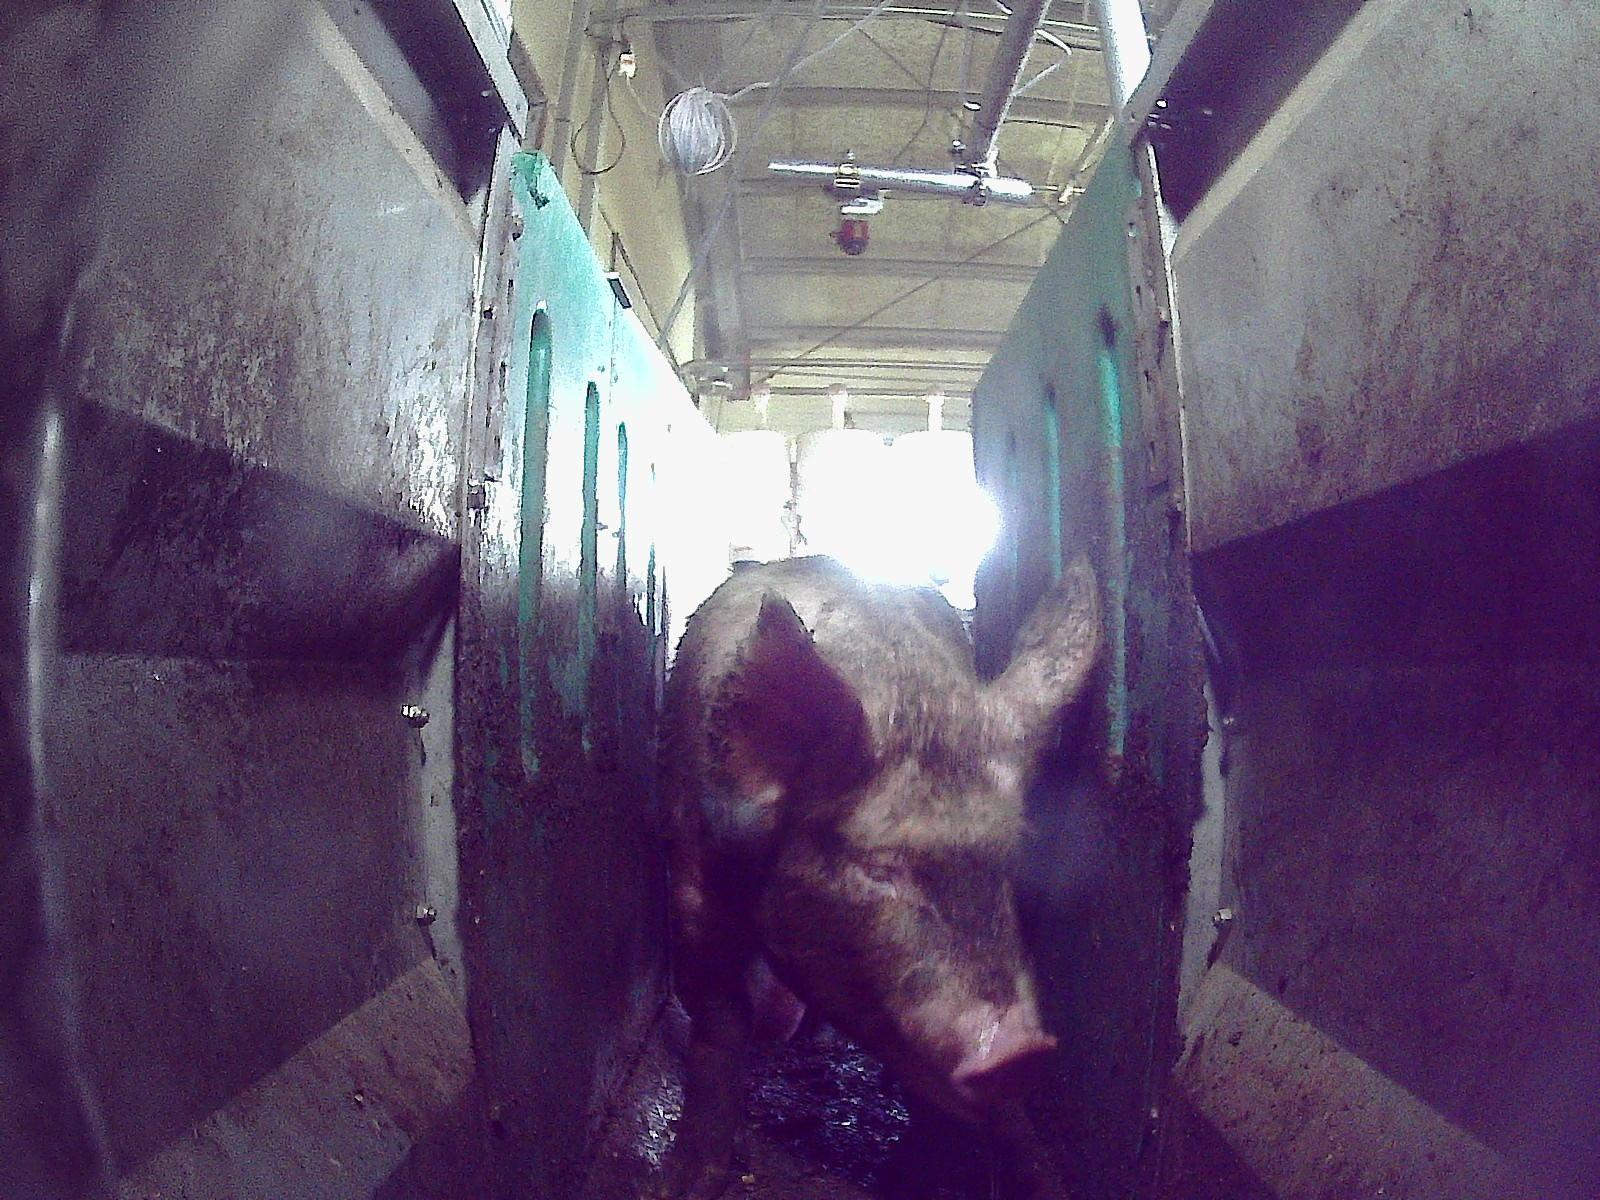Face: (757, 677, 1052, 1128)
